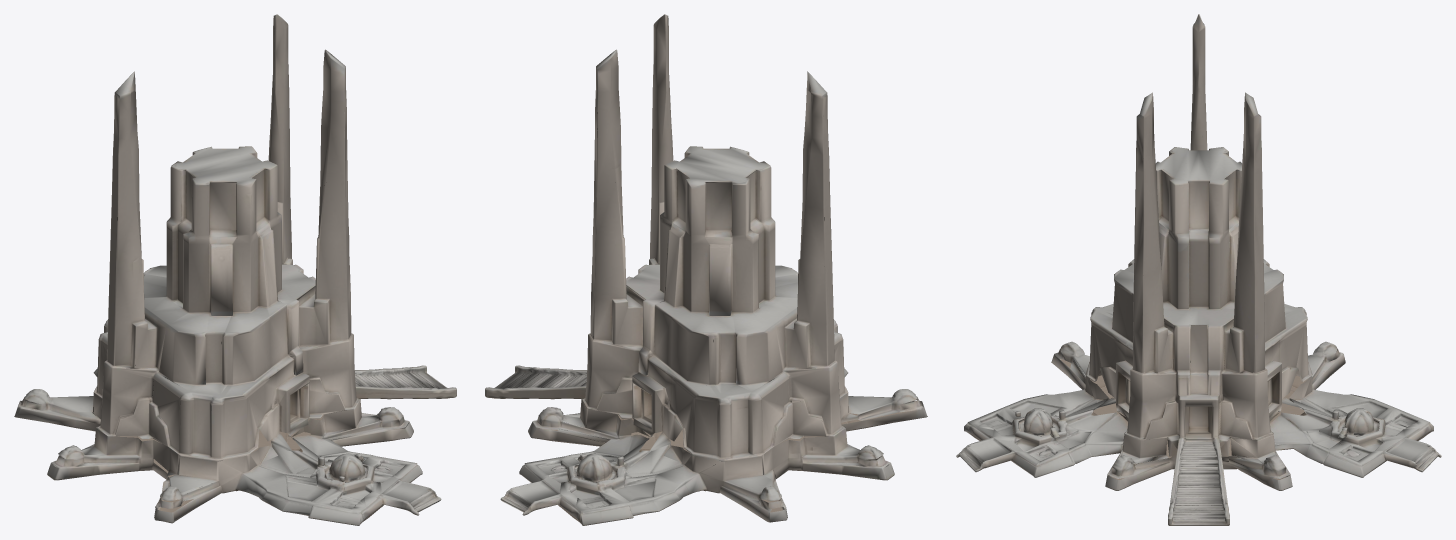
The model's file is ARRAKEEN_PALACE_A.glb.
3 renders of one model, left to right at view 1: azimuth 30°, elevation 25°; view 2: azimuth 150°, elevation 25°; view 3: azimuth 270°, elevation 25°, orthographic. The views are drawn at different scales.
Visible parts, largest first — view 1: tripo_node_ae702906-f825-44c8-82ab-aa623ef887af; view 2: tripo_node_ae702906-f825-44c8-82ab-aa623ef887af; view 3: tripo_node_ae702906-f825-44c8-82ab-aa623ef887af.
Part boxes in pixels (x1,y1,x2,y2): tripo_node_ae702906-f825-44c8-82ab-aa623ef887af: (14,14,456,525); tripo_node_ae702906-f825-44c8-82ab-aa623ef887af: (485,14,927,525); tripo_node_ae702906-f825-44c8-82ab-aa623ef887af: (956,14,1441,525).
Bounding box in the file's own units: 0.8656 × 0.8253 × 0.9785.
Materials: 1 (1 with a texture image).
